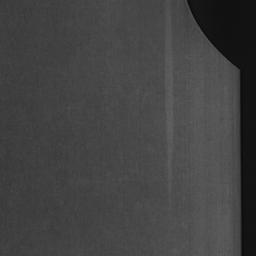Crescent gap: (187, 0, 238, 68)
